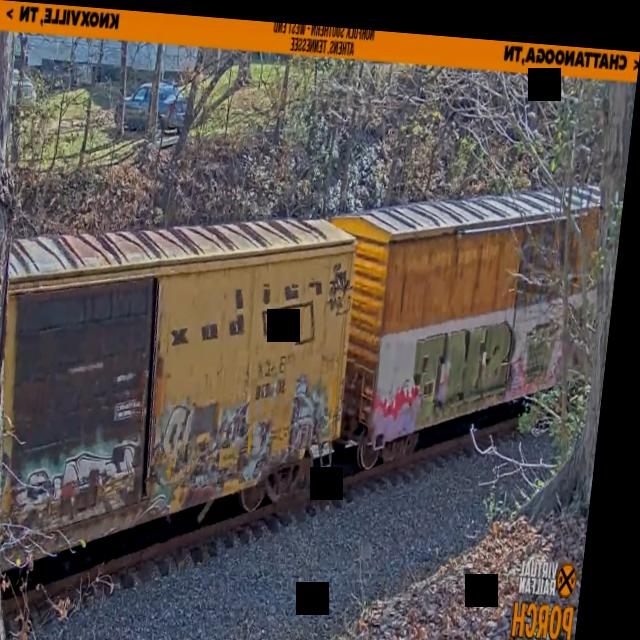boxcar: (1, 185, 375, 606), (330, 152, 605, 491)
